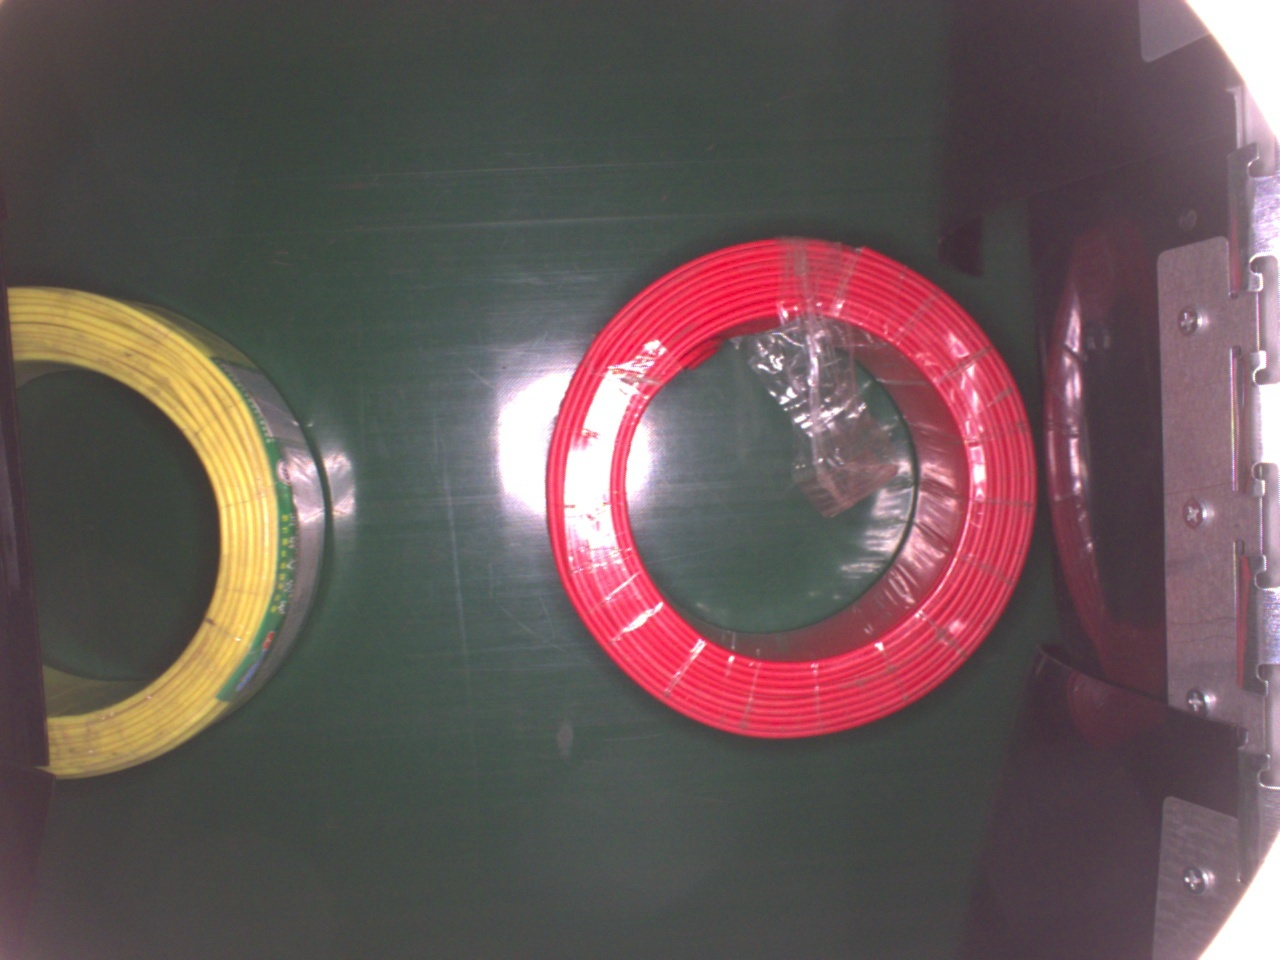red: (548, 236, 1032, 742)
yellow: (8, 276, 336, 782)
